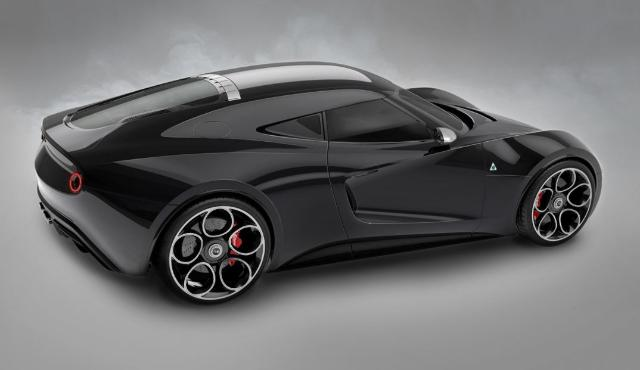alpha-romeo: (33, 61, 603, 307)
